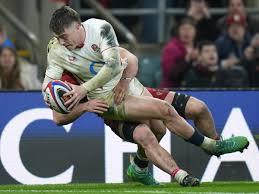ballon_rugby: (45, 79, 76, 113)
